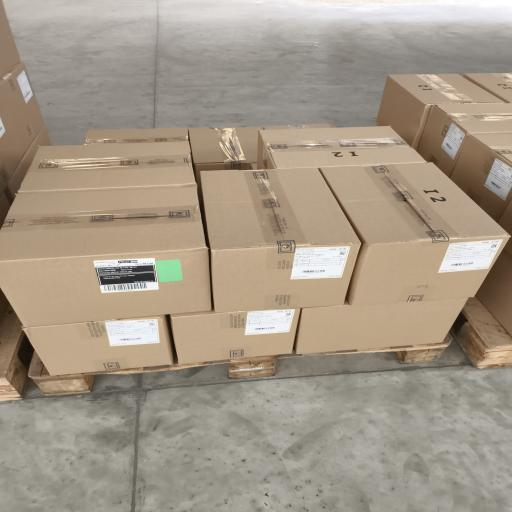pallet: (29, 354, 281, 395), (454, 298, 511, 368), (0, 307, 30, 401)
